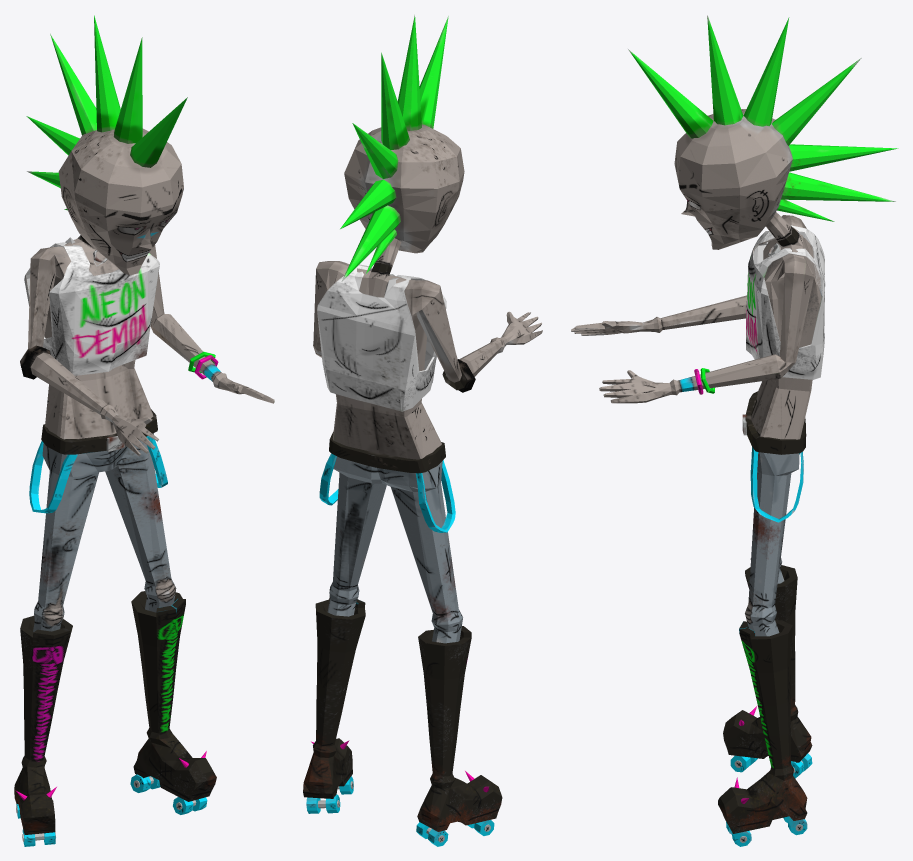
File: punkAnimation_000028.obj
3 views of the same model, side by side, from view 1: azimuth 30°, elevation 25°; view 2: azimuth 150°, elevation 25°; view 3: azimuth 270°, elevation 25° (orthographic). The views are drawn at different scales.
Parts seen in each view (by area): view 1: Cube.004_Cube.003; view 2: Cube.004_Cube.003; view 3: Cube.004_Cube.003.
Boxes of the visible parts, bbox=[...] form: Cube.004_Cube.003: bbox=[14, 15, 274, 846]; Cube.004_Cube.003: bbox=[303, 15, 542, 846]; Cube.004_Cube.003: bbox=[571, 15, 898, 846].
Bounding box in the file's own units: 1.87 × 7.56 × 2.82.
